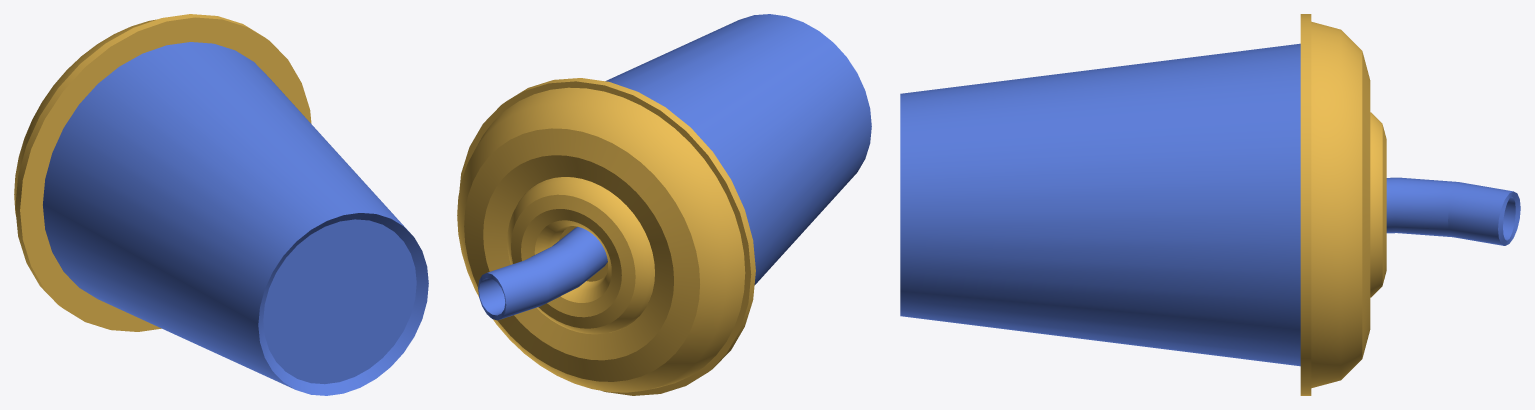
Rendered from Drink.fbx.
3 renders of one model, left to right at view 1: azimuth 30°, elevation 25°; view 2: azimuth 150°, elevation 25°; view 3: azimuth 270°, elevation 25°, orthographic. The views are drawn at different scales.
Parts seen in each view (by area): view 1: Drink; view 2: Drink; view 3: Drink.
Boxes of the visible parts, left/top/right/bottom form: Drink: left=14, top=14, right=428, bottom=395; Drink: left=457, top=14, right=871, bottom=395; Drink: left=900, top=14, right=1520, bottom=395.
Bounding box in the file's own units: 151 × 151 × 245.
